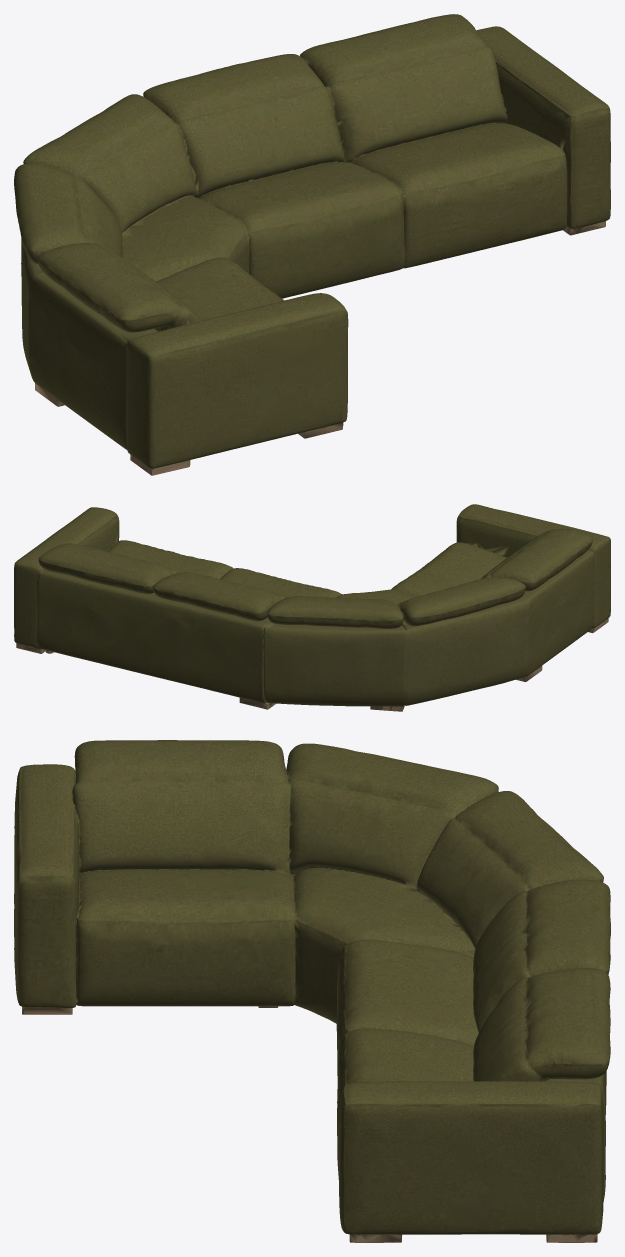
File: drift-moss.min.glb
3 renders of one model, top to bottom at view 1: azimuth 30°, elevation 25°; view 2: azimuth 150°, elevation 25°; view 3: azimuth 270°, elevation 25°, orthographic. The views are drawn at different scales.
Bounding box in the file's own units: 1.9 × 0.4466 × 1.4.
Materials: 1 (1 with a texture image).
